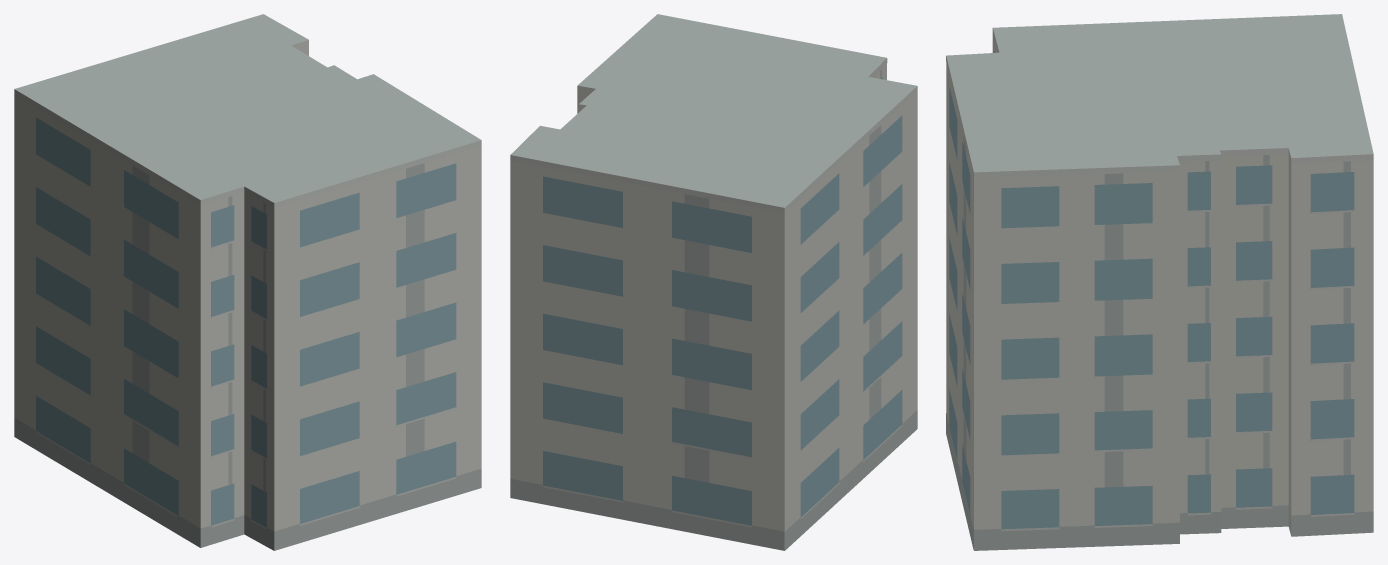
Rendered from survey-upis-32823480.glb.
3 renders of one model, left to right at view 1: azimuth 30°, elevation 25°; view 2: azimuth 150°, elevation 25°; view 3: azimuth 270°, elevation 25°, orthographic. The views are drawn at different scales.
Visible parts, largest first — view 1: survey-upis-32823480.tmp; view 2: survey-upis-32823480.tmp; view 3: survey-upis-32823480.tmp.
Boxes of the visible parts, <box> form: survey-upis-32823480.tmp: <box>14,14,481,550</box>; survey-upis-32823480.tmp: <box>510,14,917,550</box>; survey-upis-32823480.tmp: <box>946,14,1373,550</box>.
Size of the model in its own units: 13.44 by 14.97 by 15.33.
